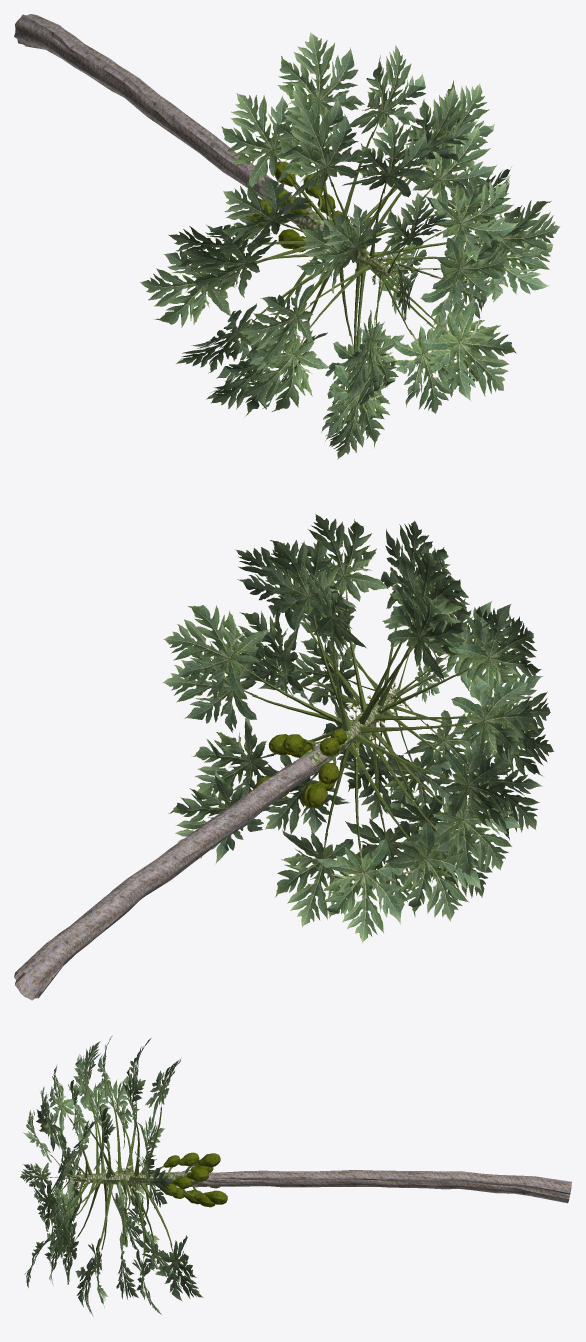
3 views of the same model, one above another, from view 1: azimuth 30°, elevation 25°; view 2: azimuth 150°, elevation 25°; view 3: azimuth 270°, elevation 25° (orthographic). The views are drawn at different scales.
Parts seen in each view (by area): view 1: FR01m; view 2: FR01m; view 3: FR01m.
Boxes of the visible parts, box(x1,y1,x2,y2) form: FR01m: box(14, 14, 560, 459); FR01m: box(14, 514, 554, 1000); FR01m: box(20, 1035, 571, 1316).
Bounding box in the file's own units: 2.83 × 2.93 × 5.32.
Materials: 7 (7 with a texture image).
